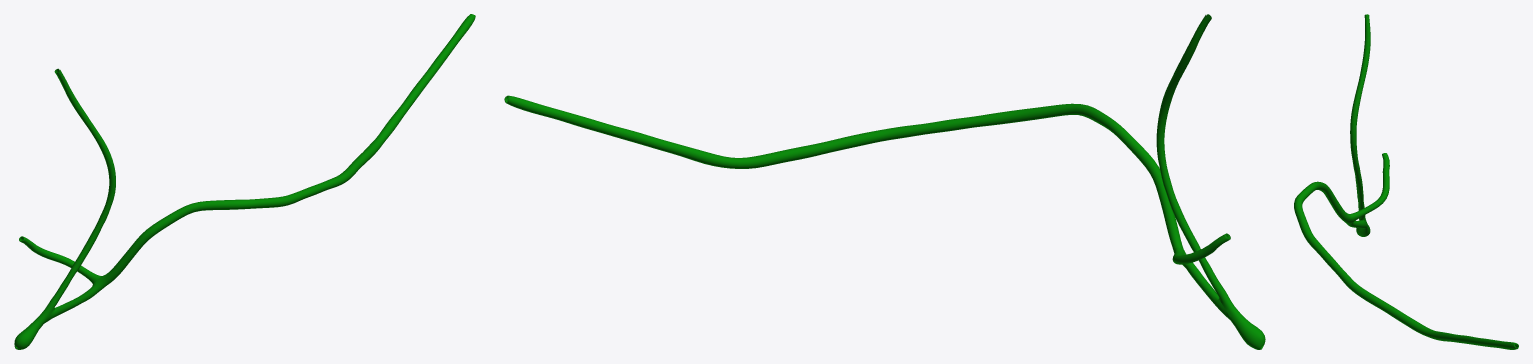
The model's file is VH_F_Ducts_of_Pancreas.glb.
3 views of the same model, side by side, from view 1: azimuth 30°, elevation 25°; view 2: azimuth 150°, elevation 25°; view 3: azimuth 270°, elevation 25° (orthographic). The views are drawn at different scales.
Parts seen in each view (by area): view 1: VH_F_ventral_pancreatic_duct, VH_F_common_bile_duct, VH_F_dorsal_pancreatic_duct, VH_F_hepatopancreatic_ampulla; view 2: VH_F_ventral_pancreatic_duct, VH_F_common_bile_duct, VH_F_hepatopancreatic_ampulla, VH_F_dorsal_pancreatic_duct; view 3: VH_F_ventral_pancreatic_duct, VH_F_common_bile_duct, VH_F_dorsal_pancreatic_duct.
Part boxes in pixels (x1,y1,x2,y2): VH_F_ventral_pancreatic_duct: (44, 14, 475, 323); VH_F_common_bile_duct: (36, 68, 115, 324); VH_F_dorsal_pancreatic_duct: (19, 236, 101, 283); VH_F_hepatopancreatic_ampulla: (14, 319, 43, 349); VH_F_ventral_pancreatic_duct: (504, 95, 1230, 320); VH_F_common_bile_duct: (1156, 14, 1239, 316); VH_F_hepatopancreatic_ampulla: (1229, 312, 1265, 349); VH_F_dorsal_pancreatic_duct: (1172, 233, 1230, 264); VH_F_ventral_pancreatic_duct: (1294, 181, 1518, 349); VH_F_common_bile_duct: (1350, 14, 1370, 223); VH_F_dorsal_pancreatic_duct: (1350, 153, 1389, 221).
Size of the model in its own units: 0.1582 by 0.0747 by 0.0635.
